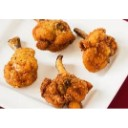chicken_lollipop: (42, 55, 92, 107), (74, 21, 119, 72), (5, 36, 38, 88), (31, 19, 75, 52)
